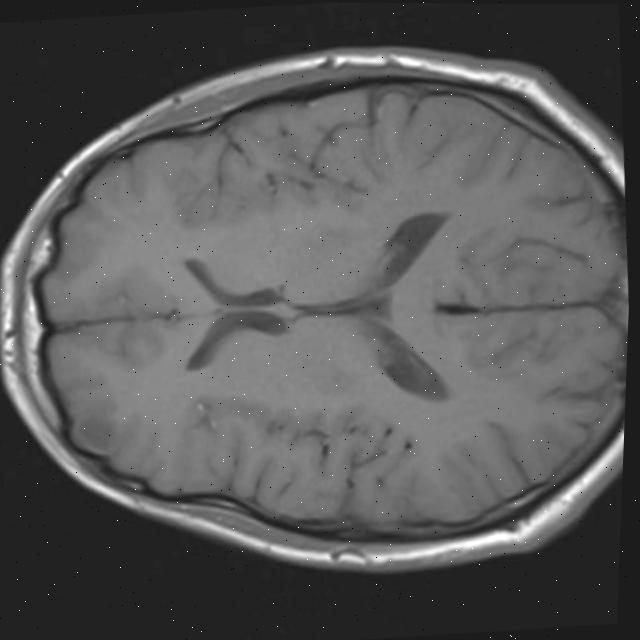NoTumor: (0, 24, 639, 601)
